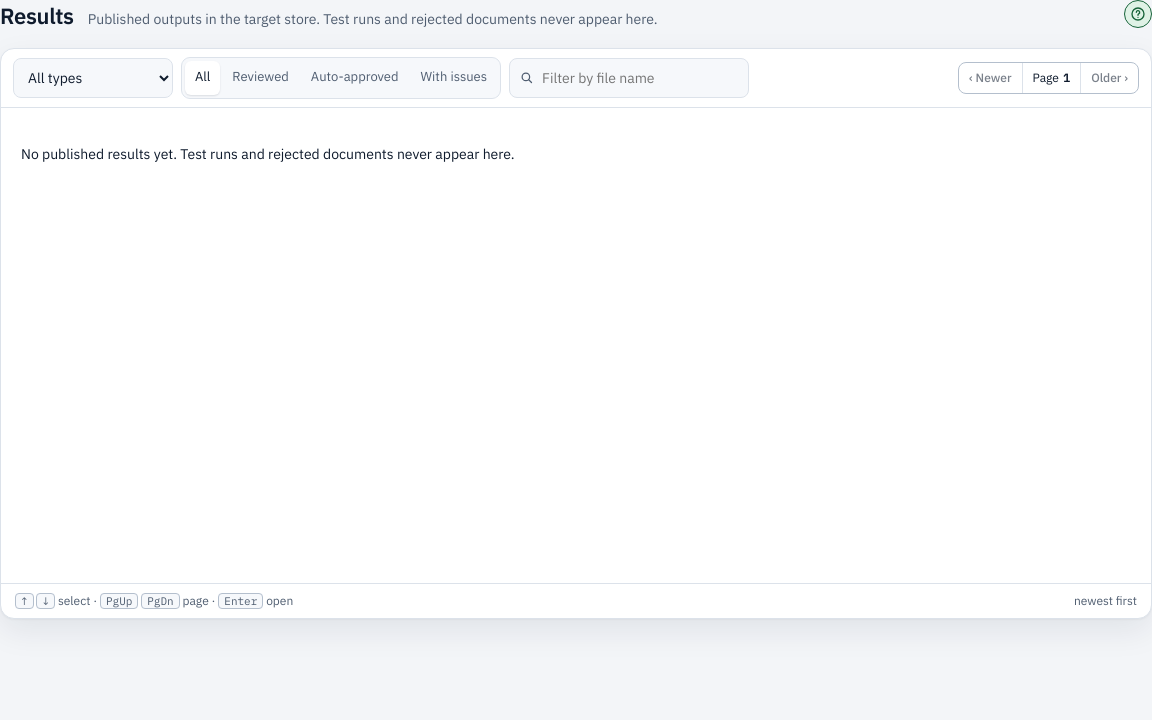
Test: ResultsPage help › explains the Results page from the page header
The width and height of the screenshot is (1152, 720).
Click the button named "Help: Using the Results page": (1138, 14) [1124,0,1151,28]
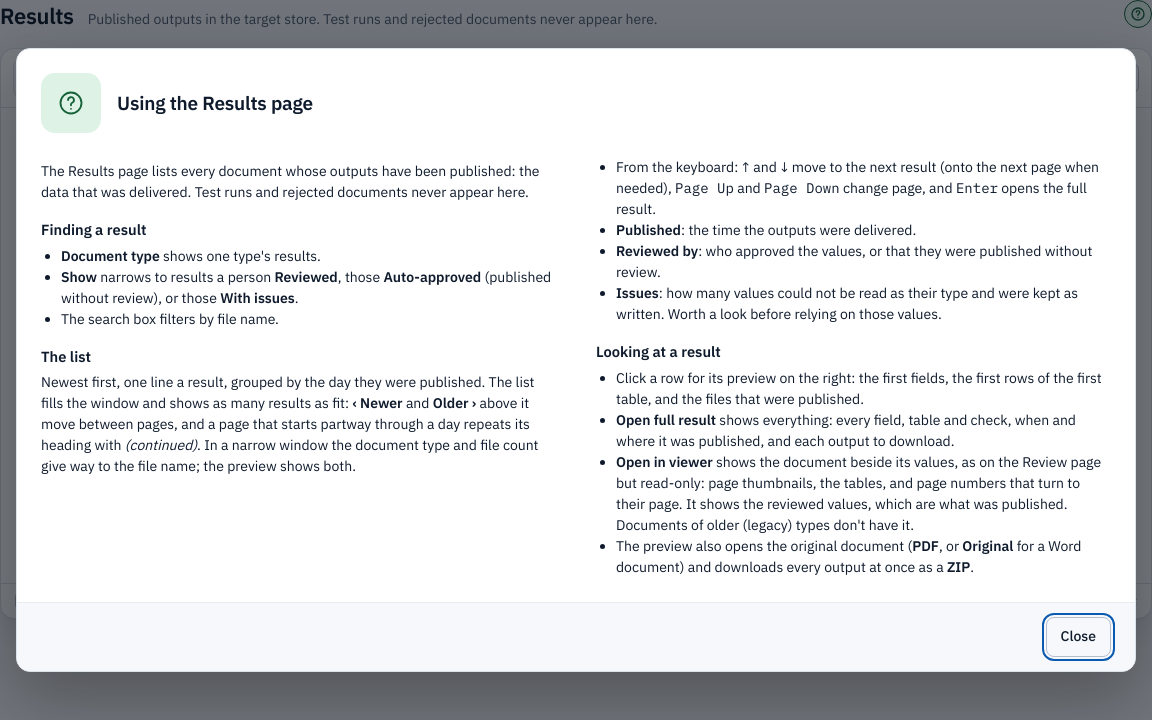
Expected: the dialog "Using the Results page" is shown
